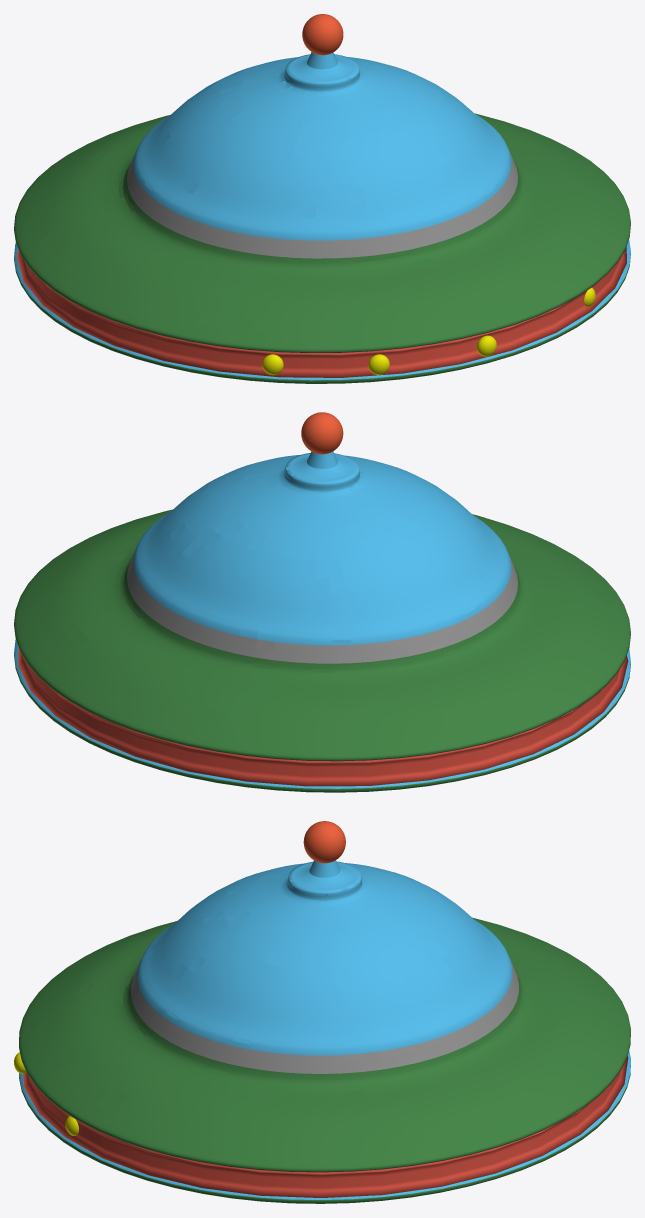
File: Spaceship.fbx
The picture shows the model from 3 angles, top to bottom: view 1: azimuth 30°, elevation 25°; view 2: azimuth 150°, elevation 25°; view 3: azimuth 270°, elevation 25°; orthographic projection. The views are drawn at different scales.
Visible parts, largest first — view 1: Cylinder; view 2: Cylinder; view 3: Cylinder.
Part boxes in pixels (bbox=[...]): Cylinder: bbox=[14, 14, 630, 383]; Cylinder: bbox=[14, 412, 630, 792]; Cylinder: bbox=[14, 821, 630, 1203].
Bounding box in the file's own units: 297 × 165 × 303.
